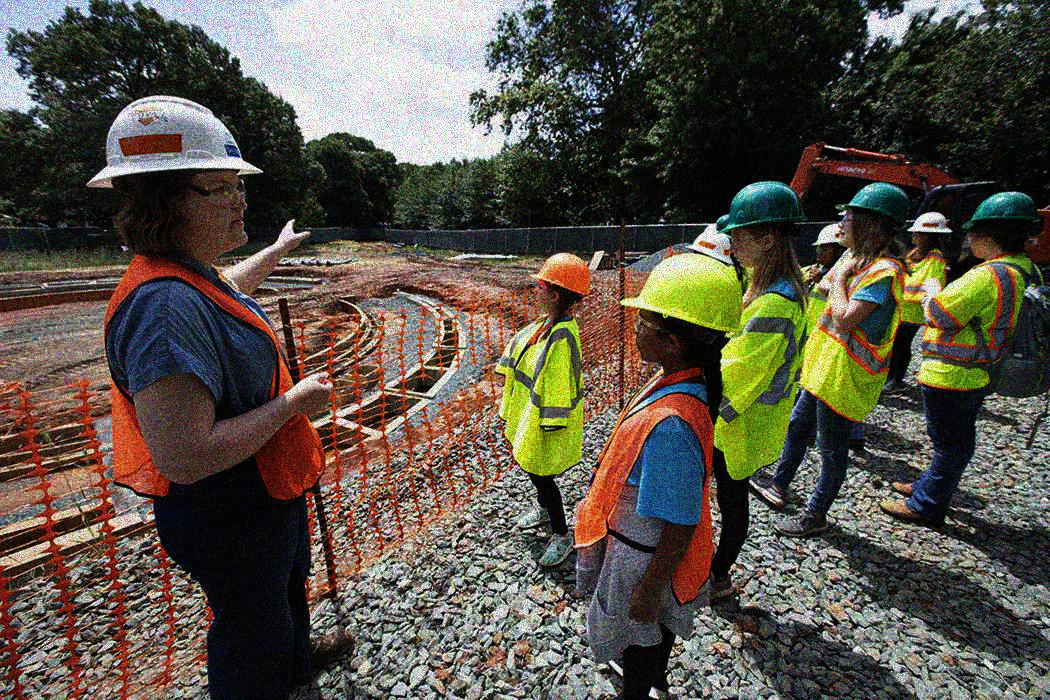helmet: (87, 93, 266, 260), (619, 249, 742, 371), (716, 182, 804, 266), (960, 189, 1039, 261), (837, 181, 911, 253), (527, 253, 590, 321), (907, 210, 952, 254), (812, 221, 849, 269)
